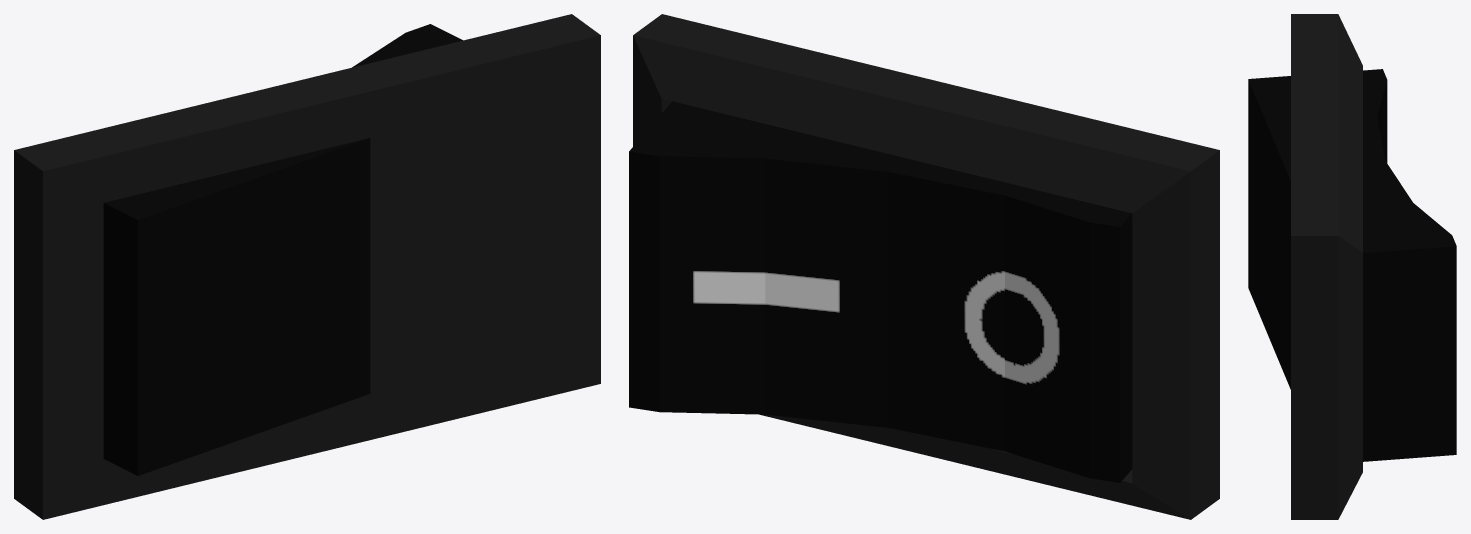
Rendered from CongTac.glb.
3 views of the same model, side by side, from view 1: azimuth 30°, elevation 25°; view 2: azimuth 150°, elevation 25°; view 3: azimuth 270°, elevation 25° (orthographic). The views are drawn at different scales.
Visible parts, largest first — view 1: Cube, CongTac2; view 2: CongTac2, Cube; view 3: CongTac2, Cube.
Part boxes in pixels (left/top/right/bottom): Cube: left=14, top=14, right=600, bottom=519; CongTac2: left=103, top=24, right=462, bottom=475; CongTac2: left=629, top=101, right=1132, bottom=482; Cube: left=633, top=14, right=1219, bottom=519; CongTac2: left=1248, top=69, right=1456, bottom=461; Cube: left=1291, top=14, right=1362, bottom=519.
Bounding box in the file's own units: 0.0615 × 0.0367 × 0.0244.
2 materials, 1 textured.
